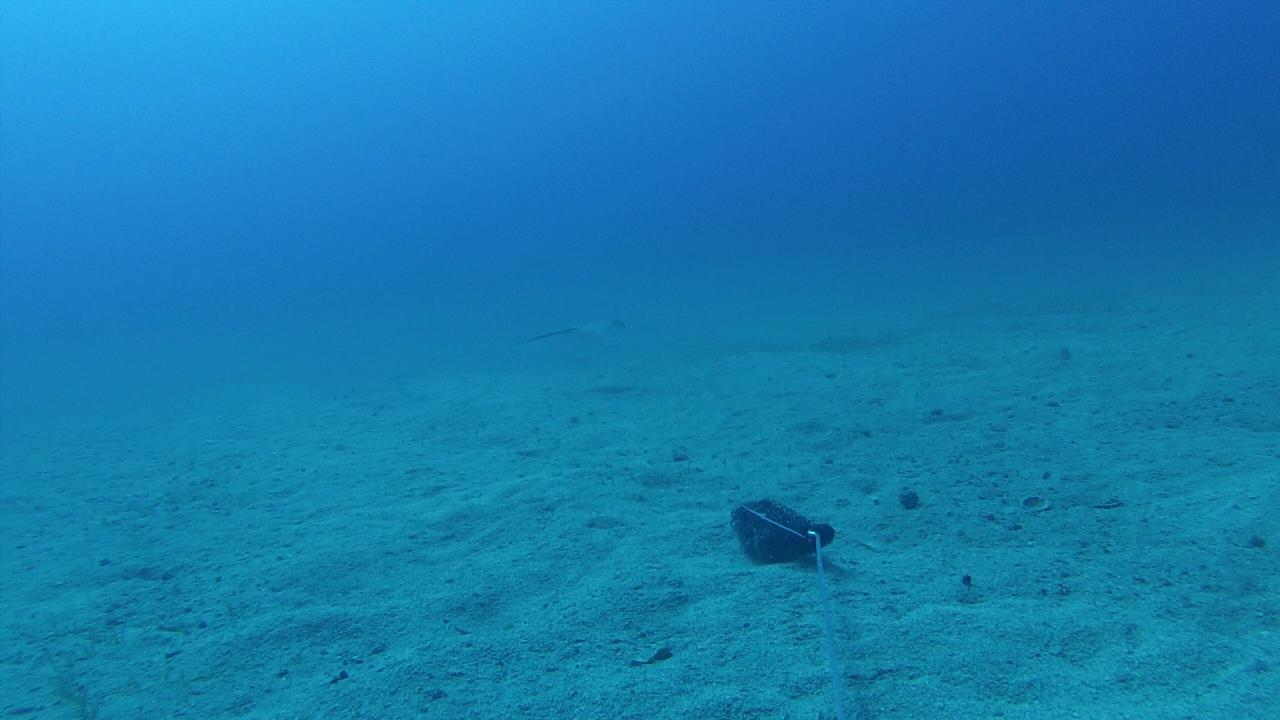dasyatis: (512, 318, 624, 346)
